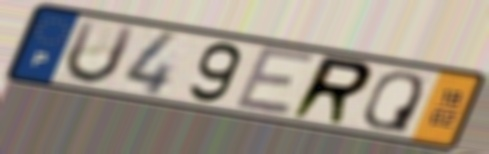4: (120, 29, 178, 99)
9: (187, 42, 244, 103)
E: (231, 43, 319, 118)
Q: (360, 70, 426, 136)
R: (285, 53, 377, 128)
U: (61, 17, 140, 86)
